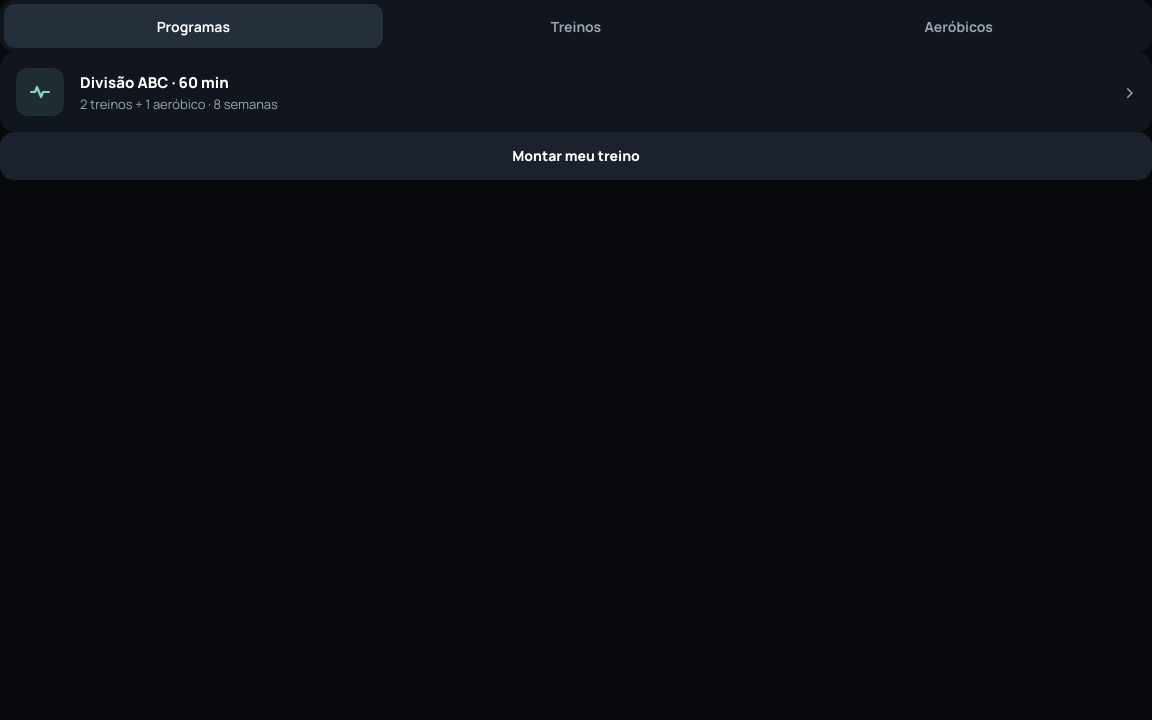
it: Biblioteca por tempo (EPIC-32) › no FitOS Livre, o programa avisa que os treinos atuais vão para Arquivados
Click the button "Divisão ABC · 60 min 2 treinos + 1 aeróbico · 8 semanas ›" at (40, 92), box [0,52,1151,132]
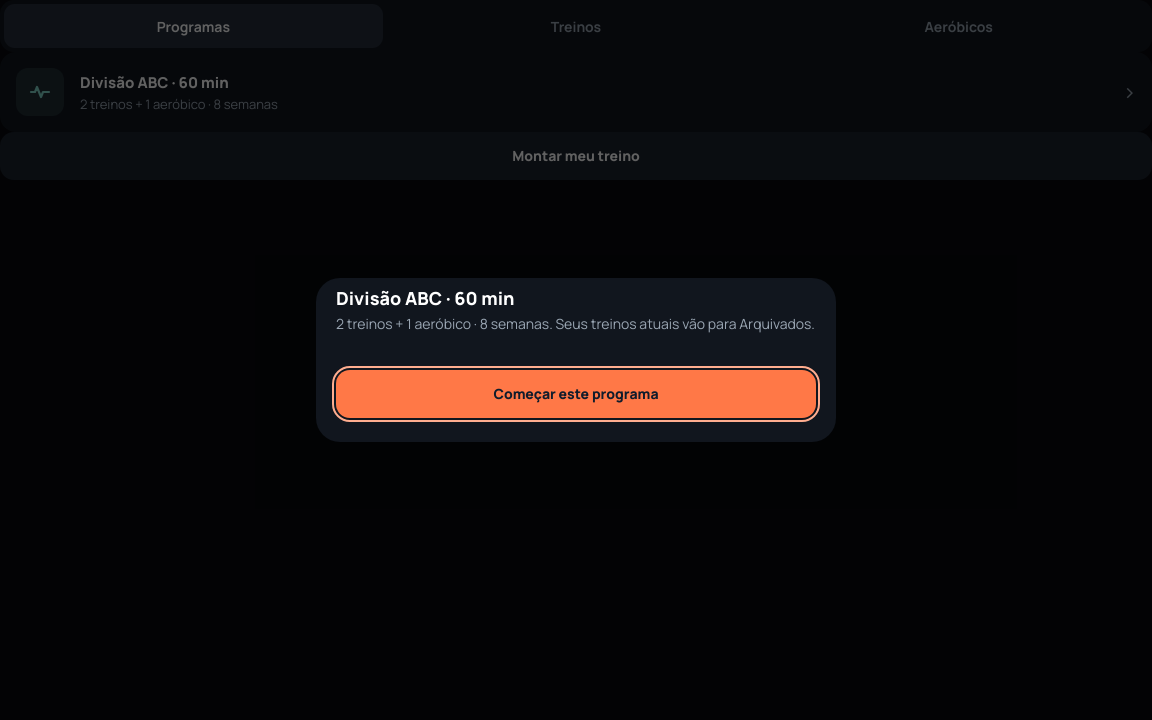
Expected: the text "Seus treinos atuais vão para Arquivados" is shown, [336,314,815,333]
Expected: the button "Começar este programa" is shown, [336,370,816,418]
